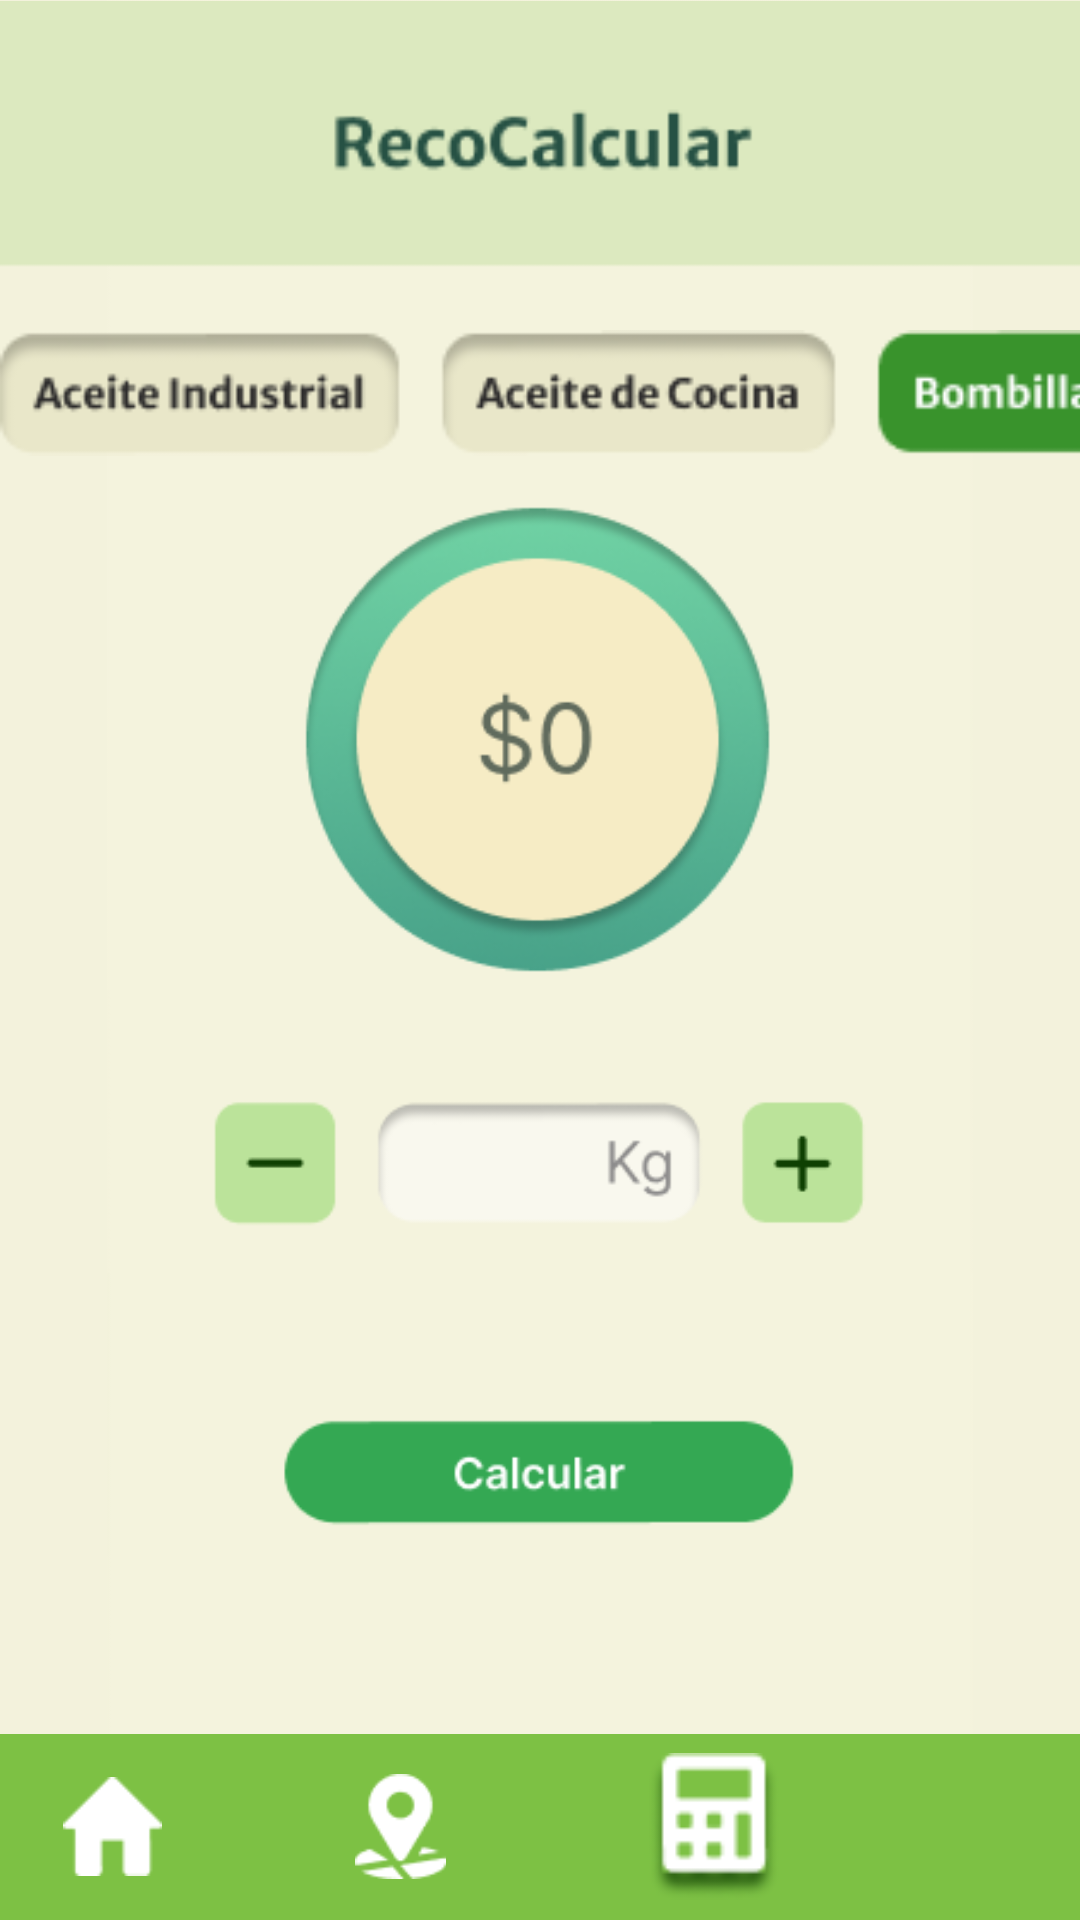

Where to tap for icons on this 1080*1920 app screen, as (x=x, y=y):
calculator: (x=714, y=1821)
